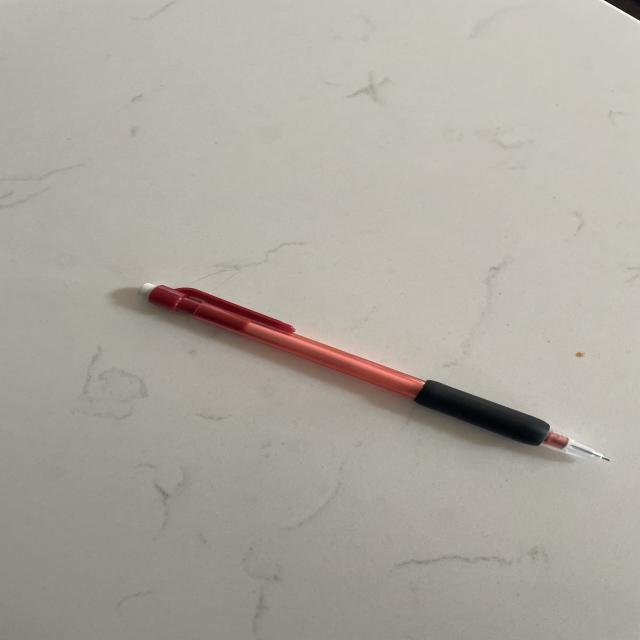mechanical-pencils: (139, 279, 613, 476)
